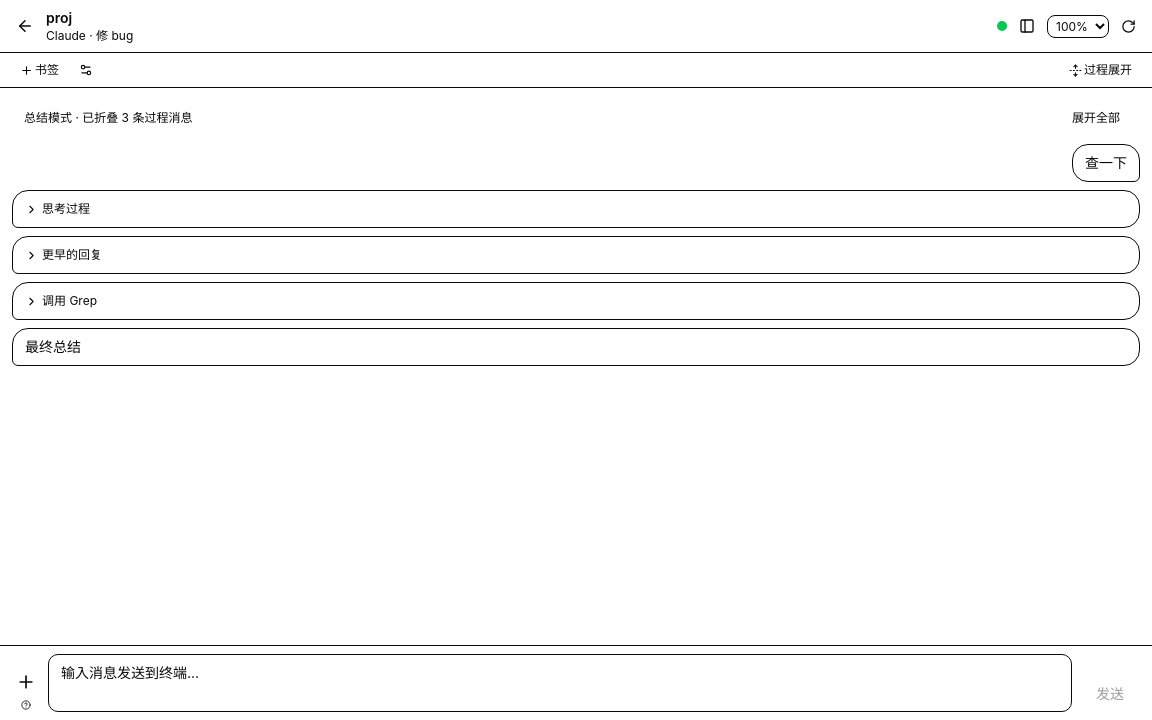
Test: SessionDetail：消息渲染与折叠交互（P9） › idle 会话（总结模式）：过程消息与更早 assistant 自动折叠，只显最后 assistant 总结
Expected: the text "查一下" is shown, 1085,153 -> 1127,173
Expected: the text "最终总结" is shown, 25,338 -> 81,355
Click the button with test id "msg-2-toggle".
click(72, 254)  # box 21,245 -> 1131,265
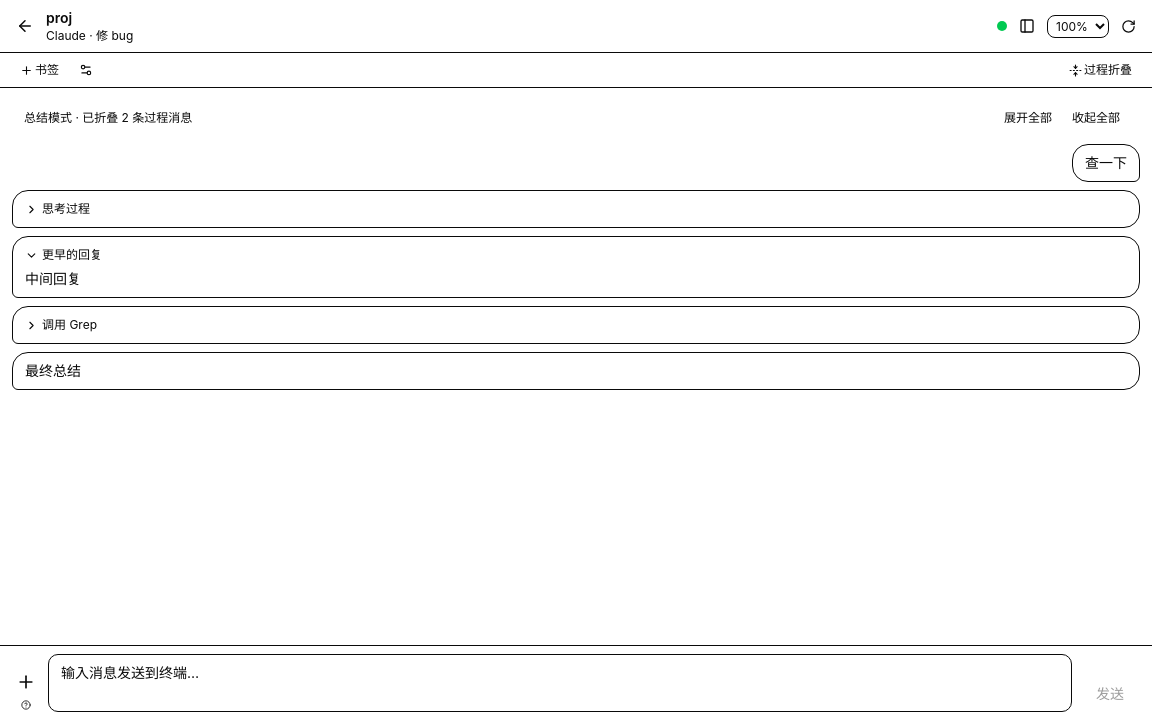
Now the text "中间回复" is shown, box 25,270 -> 81,287
// 过程消息同样可展开
Click the button with test id "msg-1-toggle".
click(66, 208)  # box 21,199 -> 1131,219
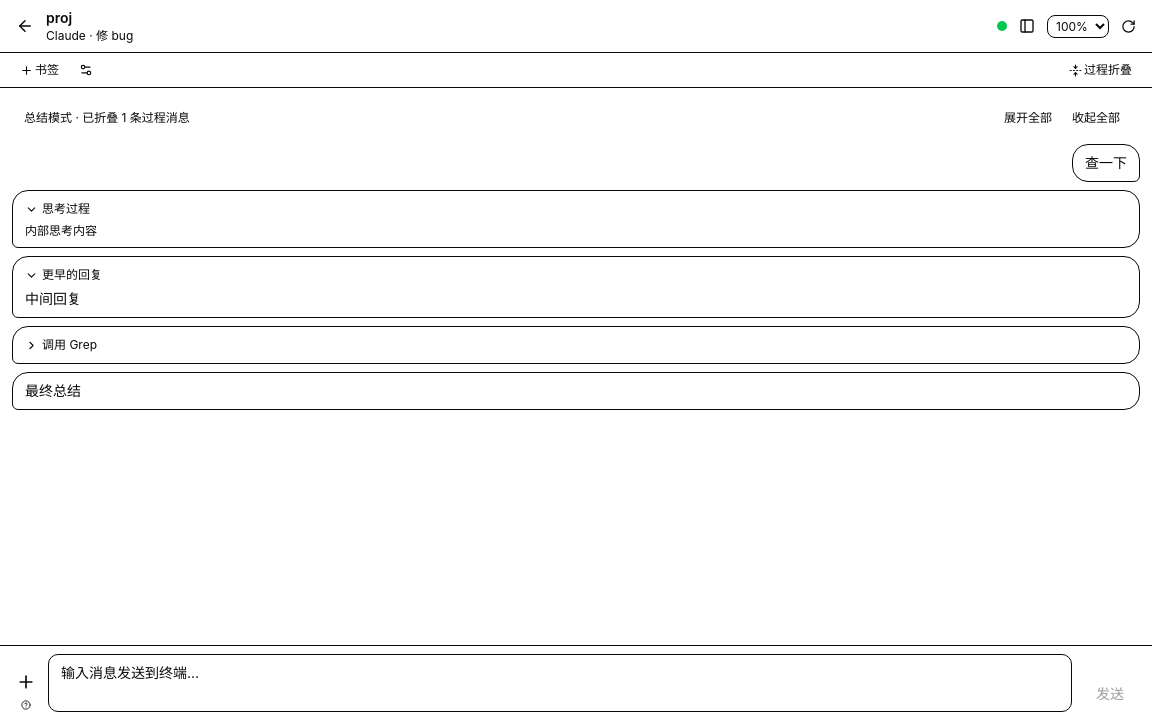
Now the text "内部思考内容" is shown, box 25,223 -> 97,238
